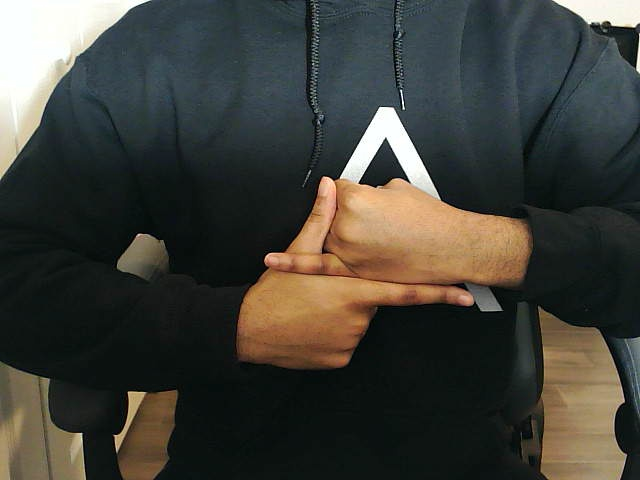Hare: (242, 176, 476, 373)
